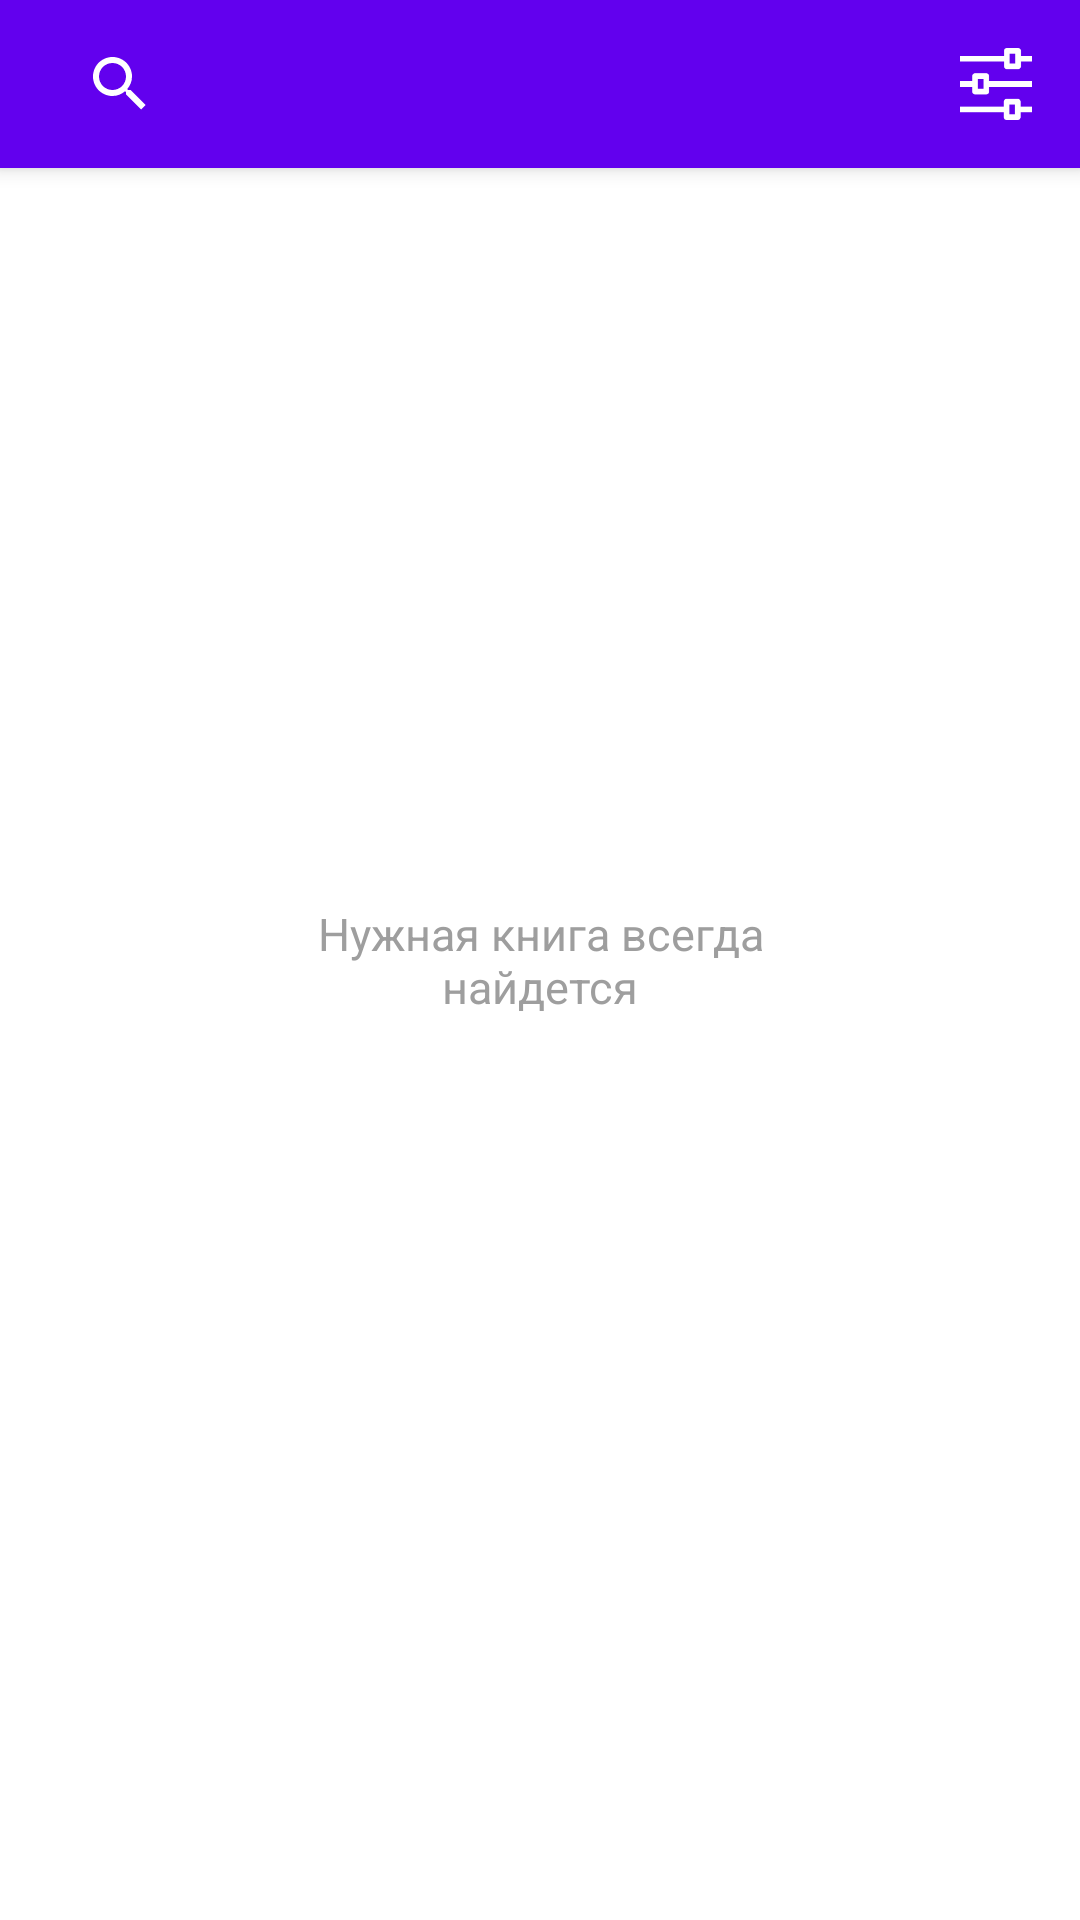

Icon click points for this 1080 × 1920 phone screenshot, format (x=x, y=y):
settings: (x=996, y=84)
